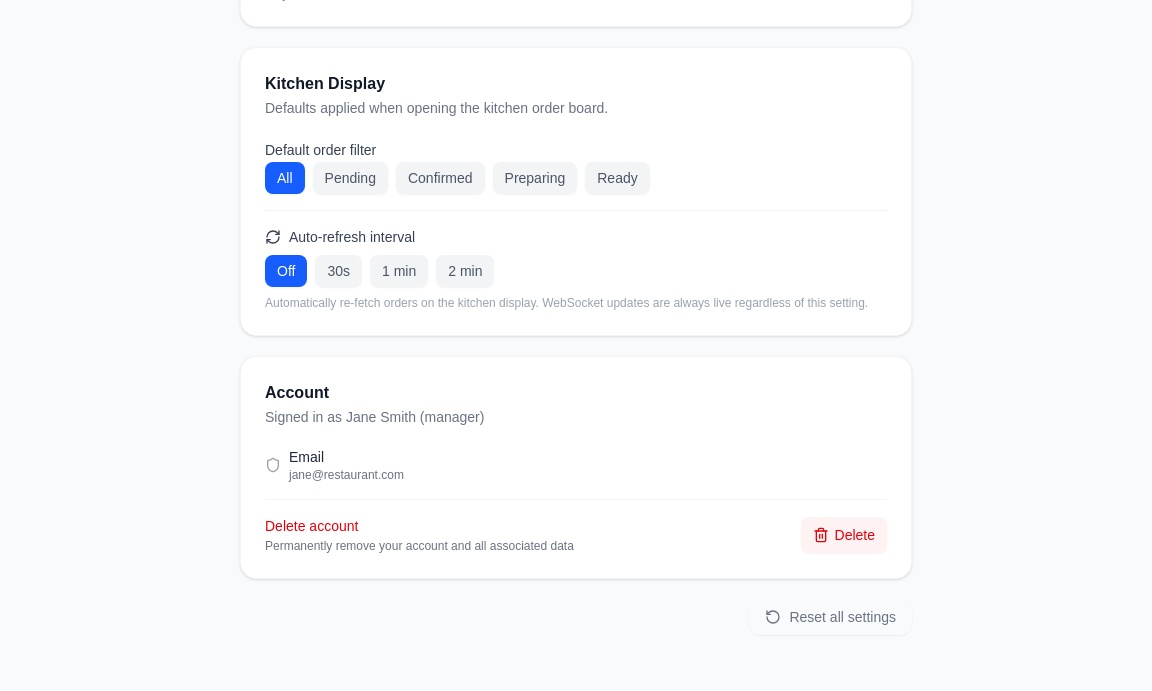
Test: SettingsPage › closes the modal when Cancel is clicked
(page scrolled)
Click the button "Delete" at (844, 535), box x1=800 y1=517 x2=887 y2=553
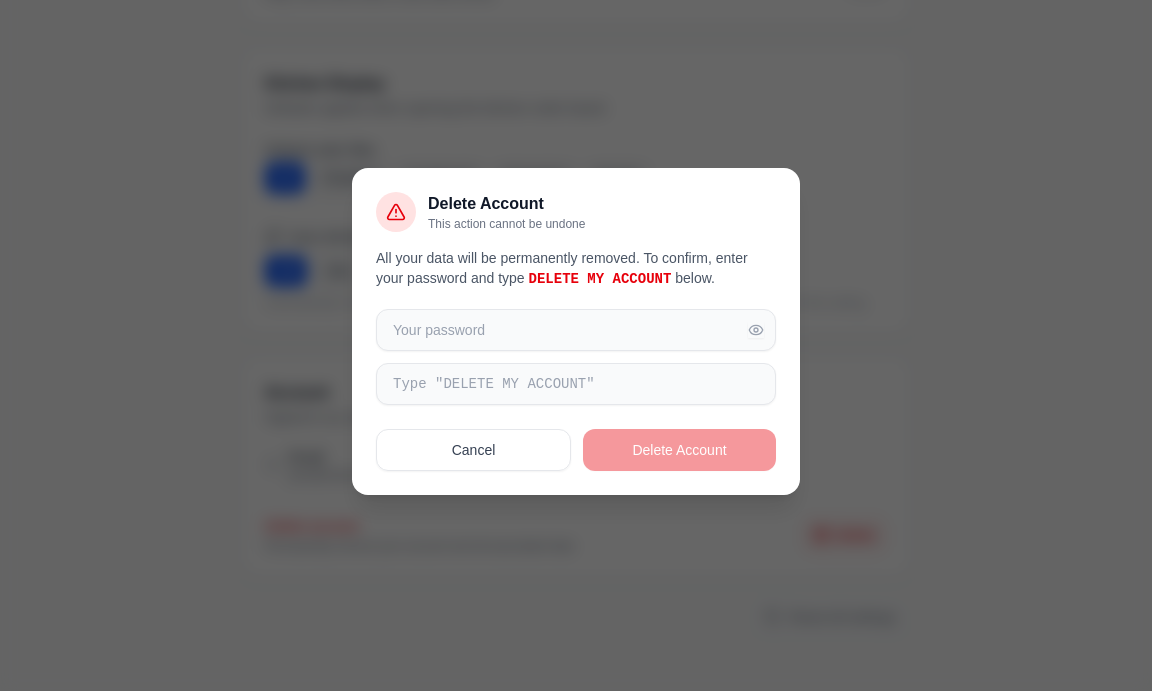
Click the button "Cancel" at (474, 450), box x1=376 y1=428 x2=571 y2=470
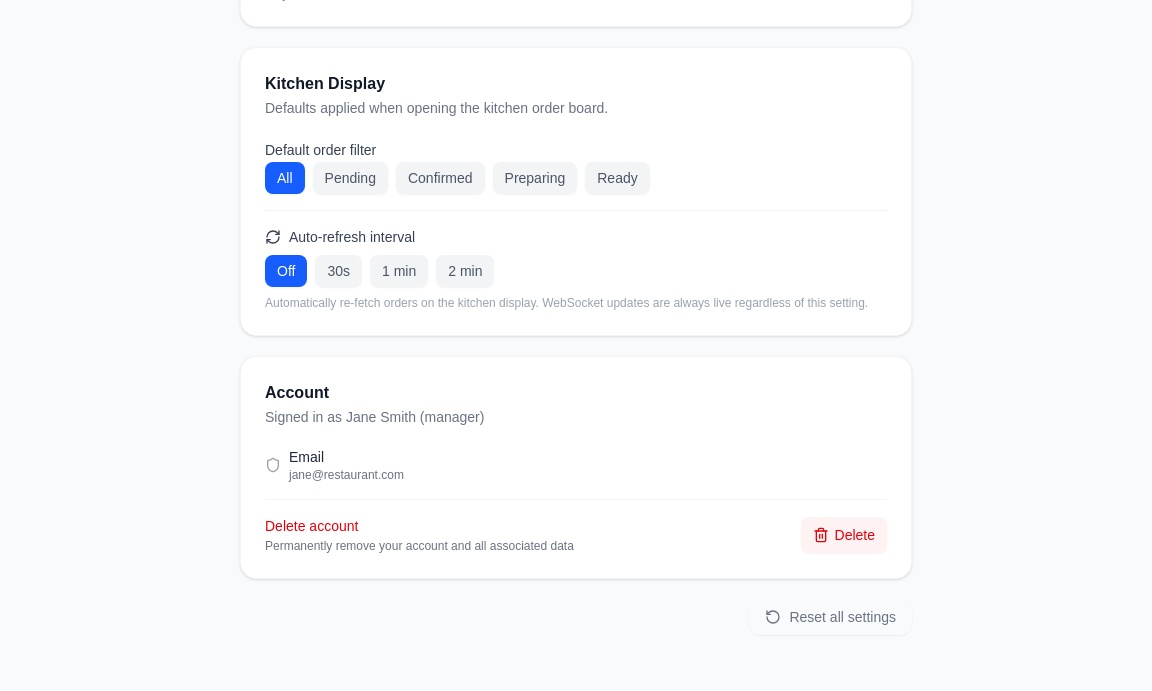
Now the field with placeholder "your password" is gone
